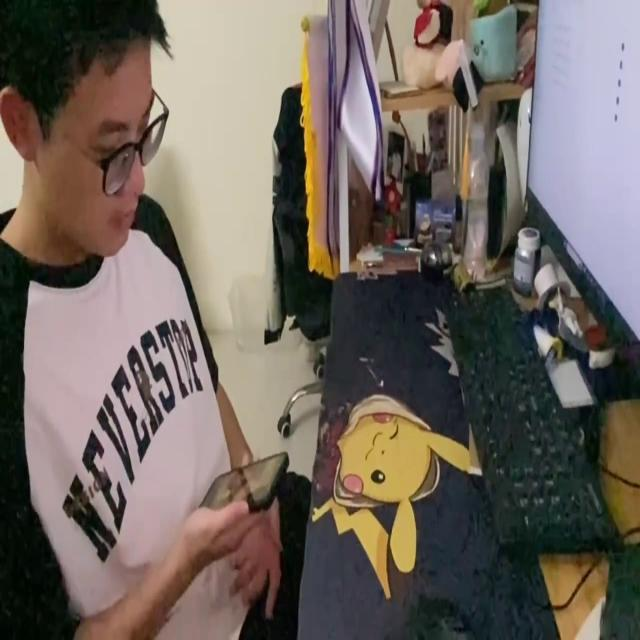laptop: (524, 0, 640, 388)
phone: (200, 448, 290, 515)
student: (0, 0, 302, 640)
